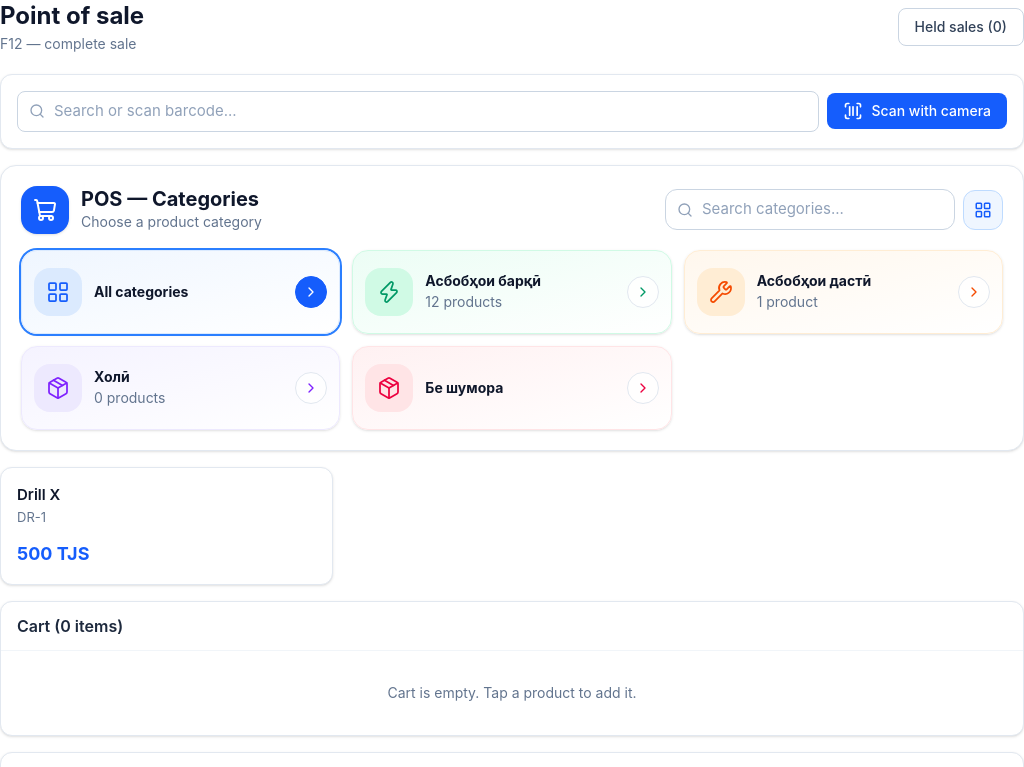
Test case: POS category cards › the toggle hides and shows the cards
This screenshot has width=1024, height=767.
Check: the text "Асбобҳои барқӣ" is shown, box [425,272,541,289]
Step 1. Click the button named "Hide categories" → (983, 210), box [963,190,1003,230]
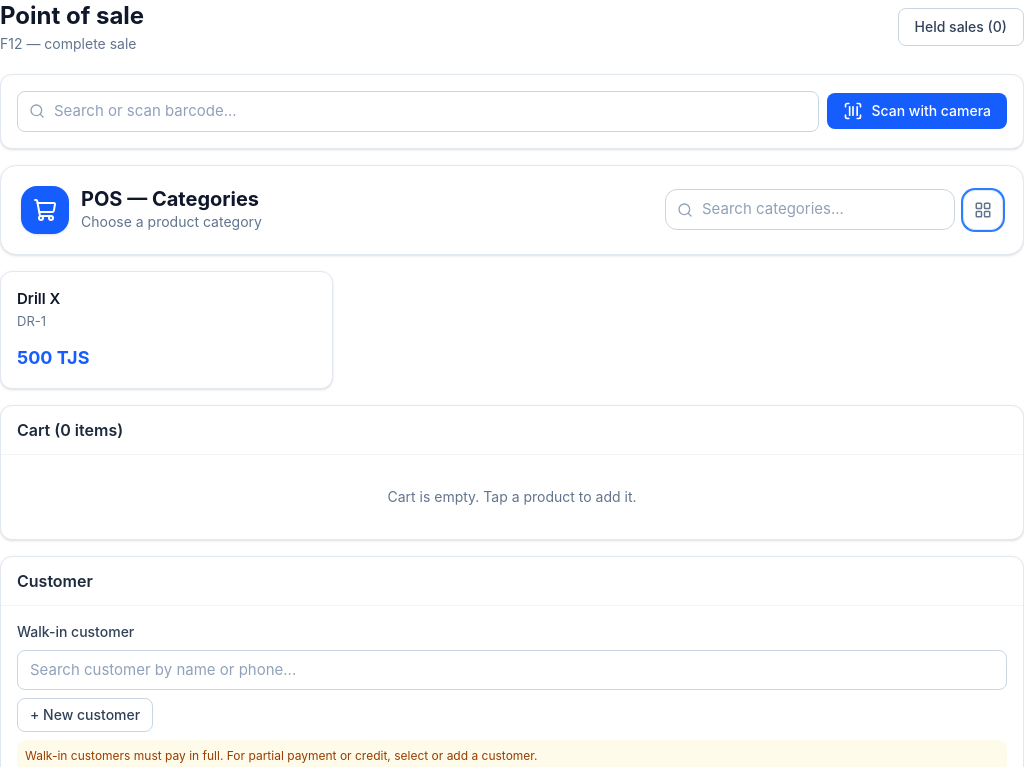
Check: no buttons with test id "pos-category-card" are shown
Step 2. Click the button named "Show categories" → (983, 210), box [963,190,1003,230]
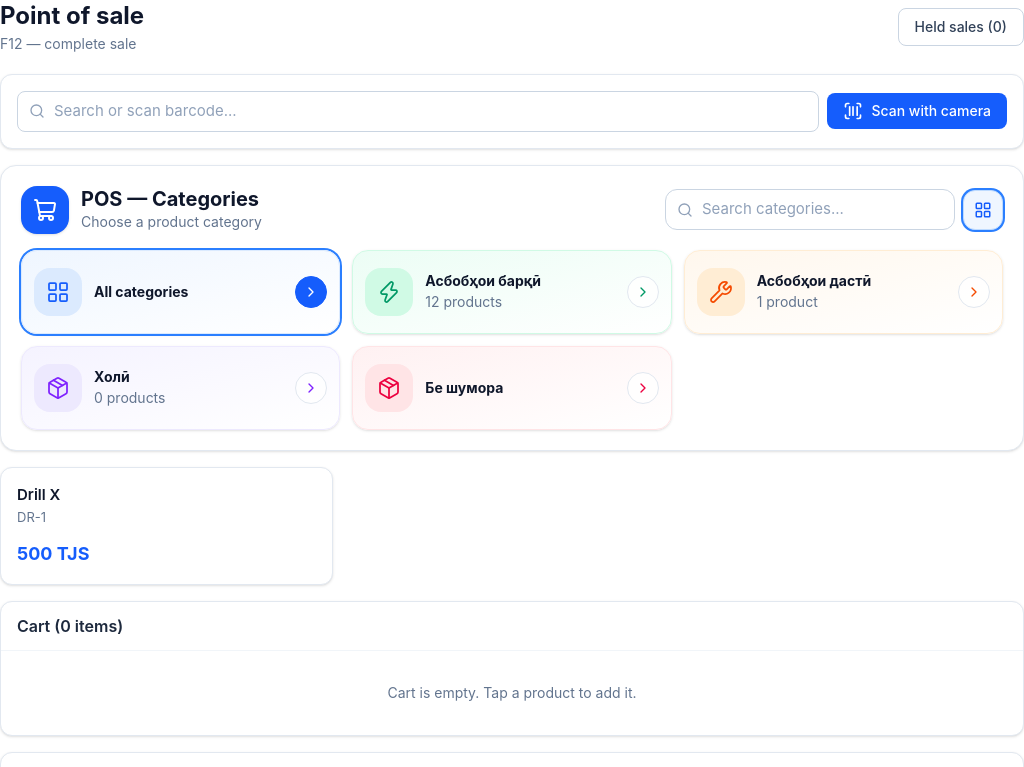
Check: the button with test id "pos-category-card" is shown, box [21,250,340,334]
